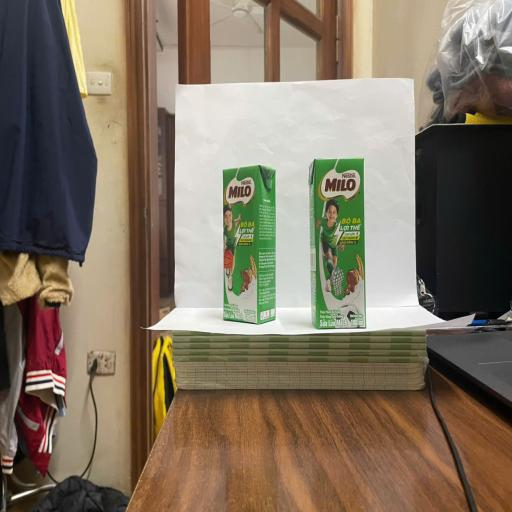milo: (309, 158, 364, 330), (224, 167, 277, 321)
